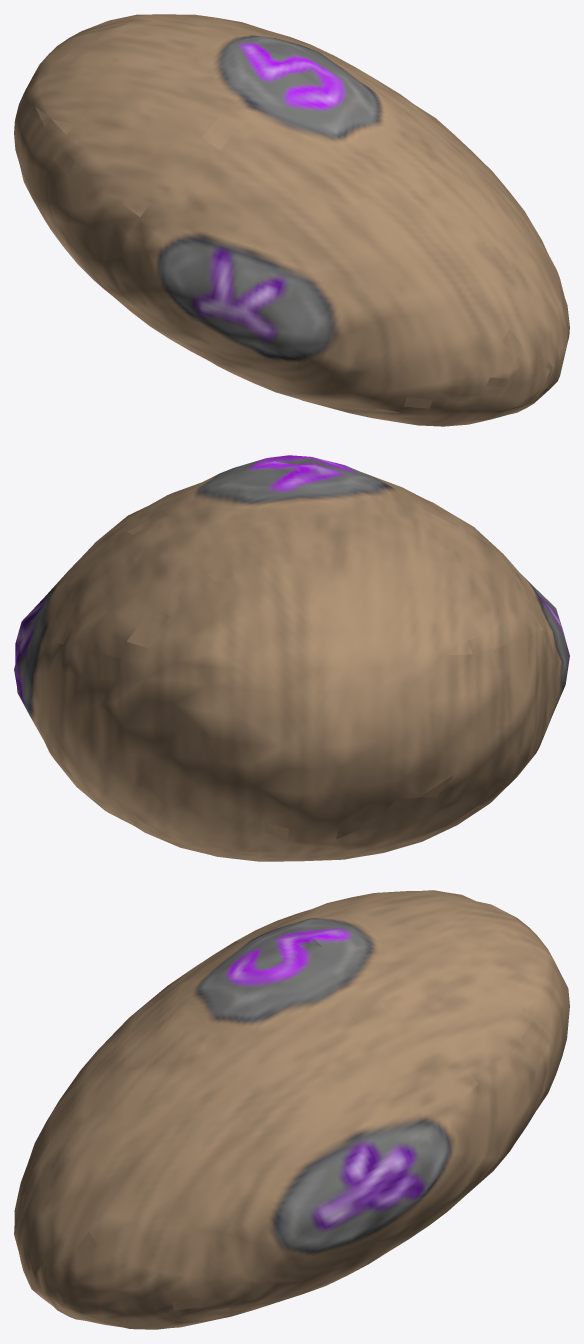
Rendered from sculpture_08.glb.
The picture shows the model from 3 angles, top to bottom: view 1: azimuth 30°, elevation 25°; view 2: azimuth 150°, elevation 25°; view 3: azimuth 270°, elevation 25°; orthographic projection. The views are drawn at different scales.
Parts seen in each view (by area): view 1: SCL_02_03; view 2: SCL_02_03; view 3: SCL_02_03.
Part boxes in pixels (bbox=[...]): SCL_02_03: bbox=[14, 14, 569, 426]; SCL_02_03: bbox=[14, 455, 569, 861]; SCL_02_03: bbox=[14, 890, 569, 1329].
Size of the model in its own units: 0.2837 by 0.2161 by 0.3307.
Materials: 1 (1 with a texture image).
